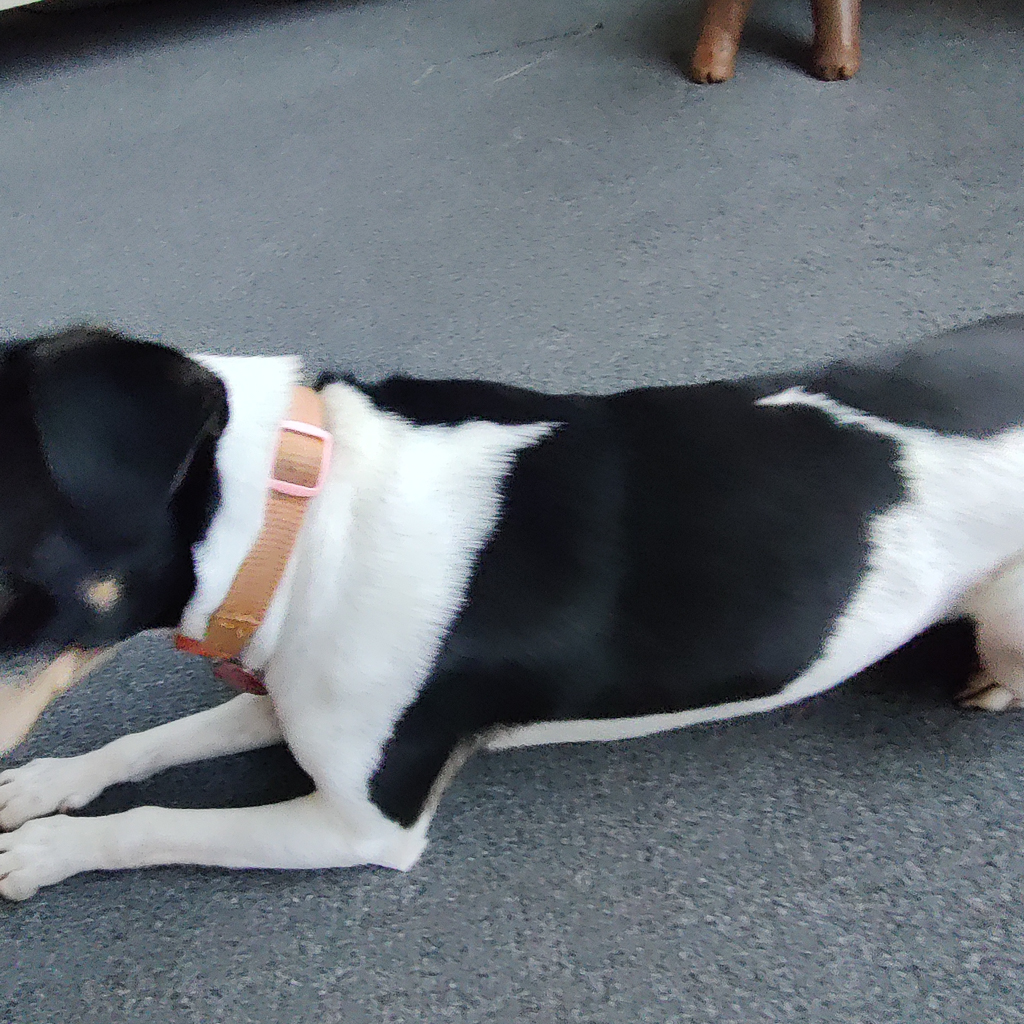Cattle: (659, 0, 898, 105)
Dog: (0, 302, 1024, 919)
